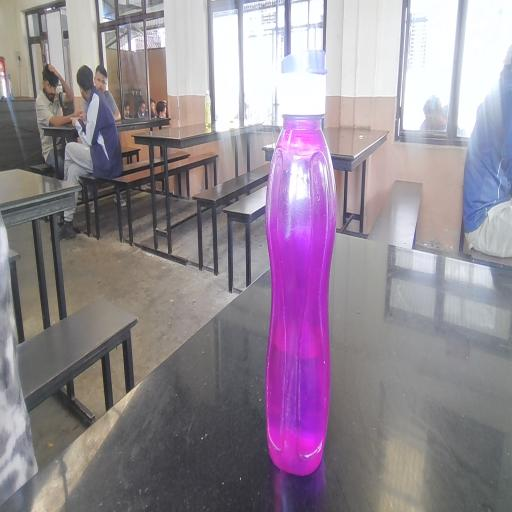Bottle: (265, 45, 351, 493)
